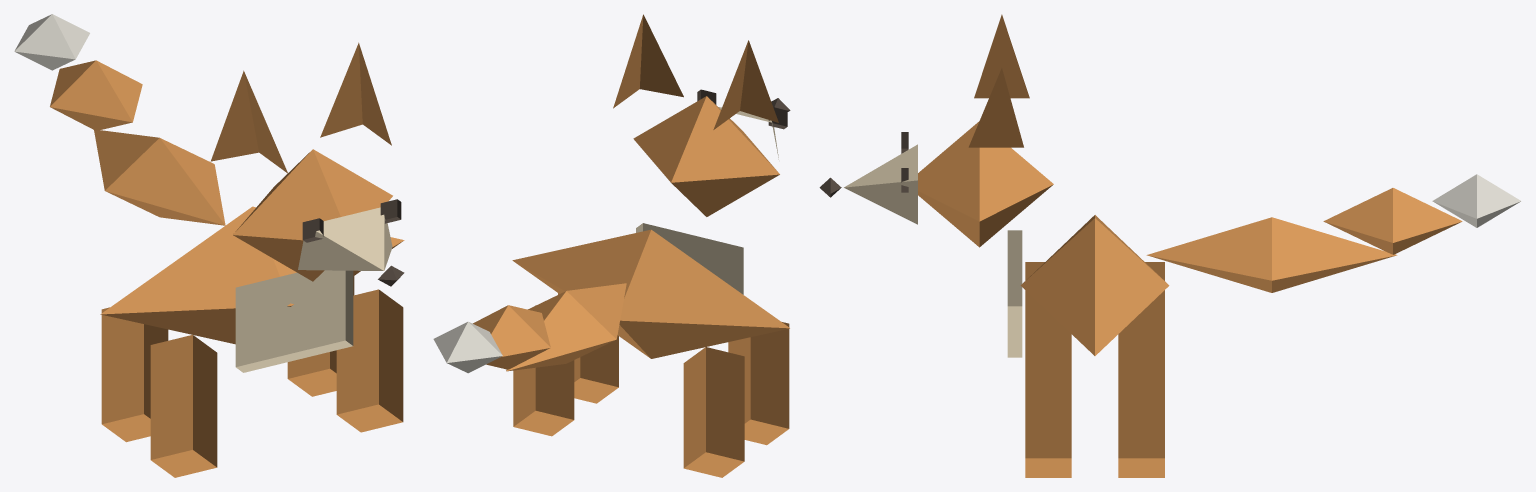
Rendered from lowpoly_fox_animal.gltf.
The picture shows the model from 3 angles, left to right: view 1: azimuth 30°, elevation 25°; view 2: azimuth 150°, elevation 25°; view 3: azimuth 270°, elevation 25°; orthographic projection. The views are drawn at different scales.
Parts seen in each view (by area): view 1: Low Poly Fox Animal; view 2: Low Poly Fox Animal; view 3: Low Poly Fox Animal.
Part boxes in pixels (<box>): Low Poly Fox Animal: <box>14,14,404,477</box>; Low Poly Fox Animal: <box>433,14,790,477</box>; Low Poly Fox Animal: <box>819,14,1521,477</box>.
Bounding box in the file's own units: 1.8 × 2.28 × 3.77.
